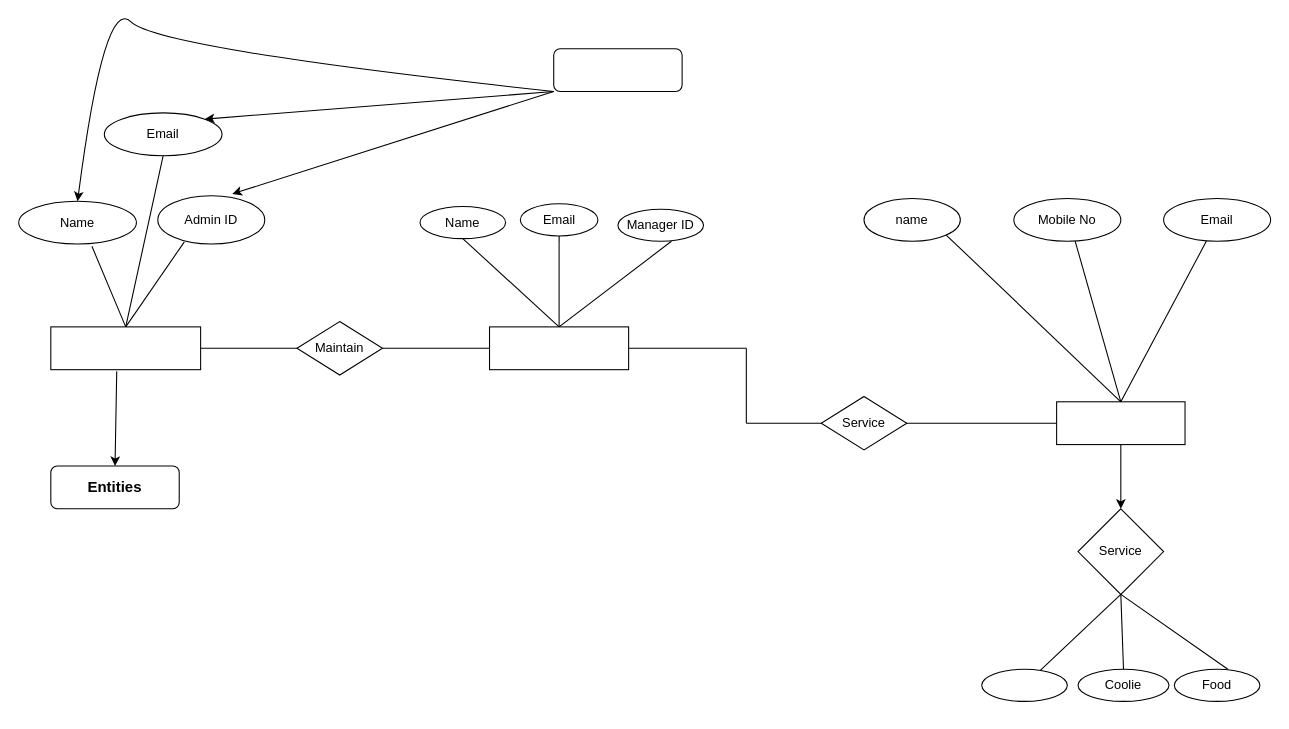
The diagram is 1289 pixels wide and 729 high, and some of its shapes have lost their labels. The box of each missing label's shape, as (x1, y1, x2, y2) in pixels:
Admin: (50, 326, 201, 370)
attributes: (553, 48, 682, 91)
Client: (1056, 401, 1185, 445)
Manager: (488, 326, 629, 370)
Medical: (981, 668, 1067, 701)
